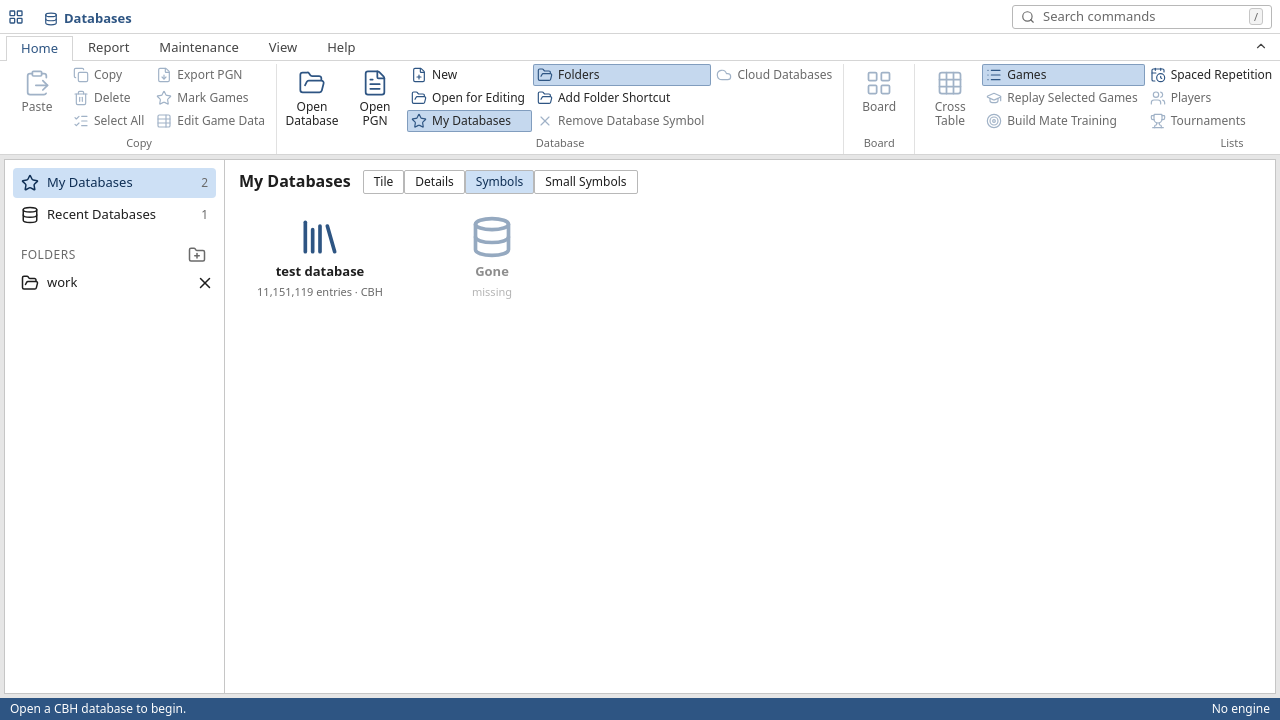
it: recovery from an unopened damaged family › retains choices after a destination failure and permits retry
Click the tab "Maintenance".
click(199, 48)  # box [144, 35, 254, 60]
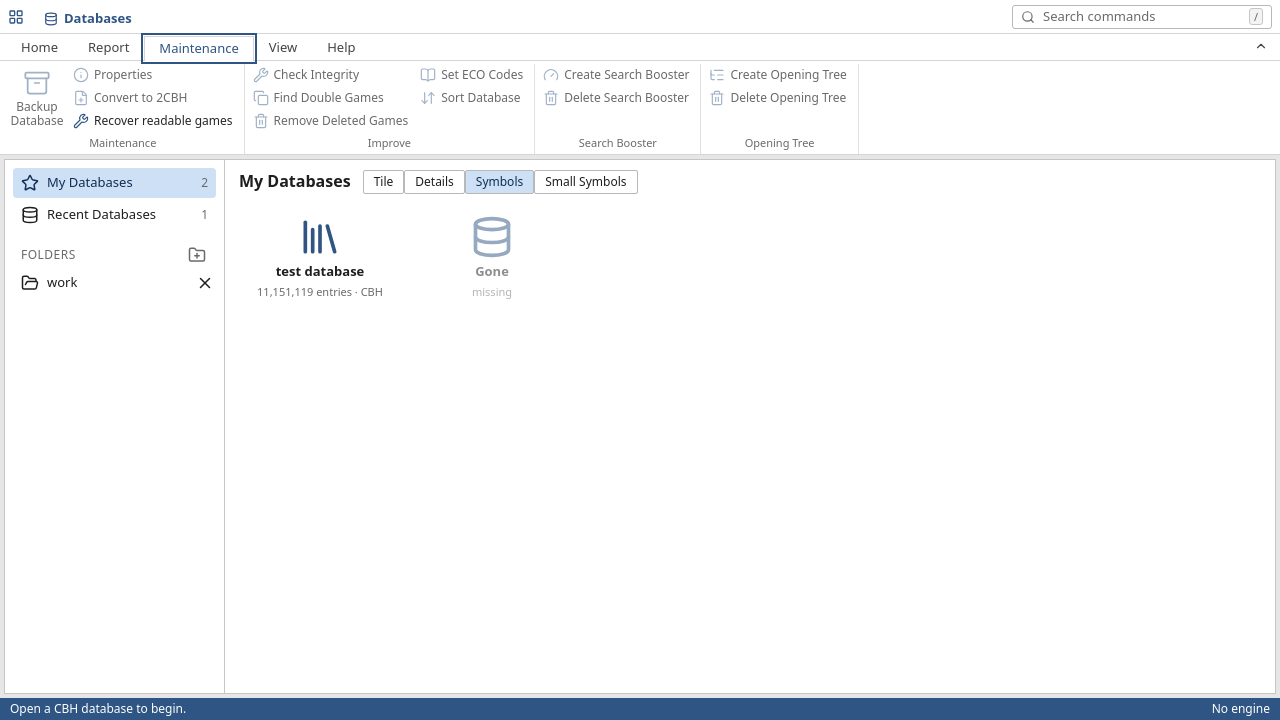
Click the button "Recover readable games".
click(154, 121)  # box [69, 110, 240, 132]
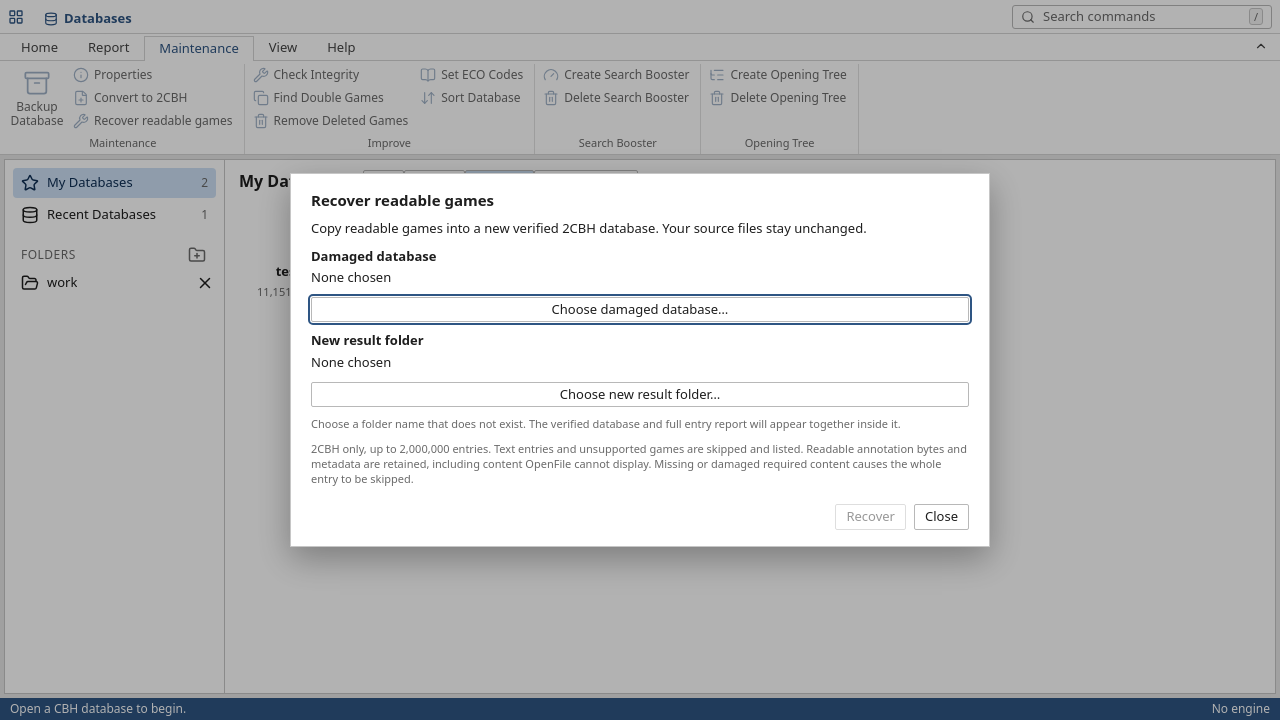
Click the button "Choose damaged database…".
click(640, 310)  # box [311, 297, 969, 322]
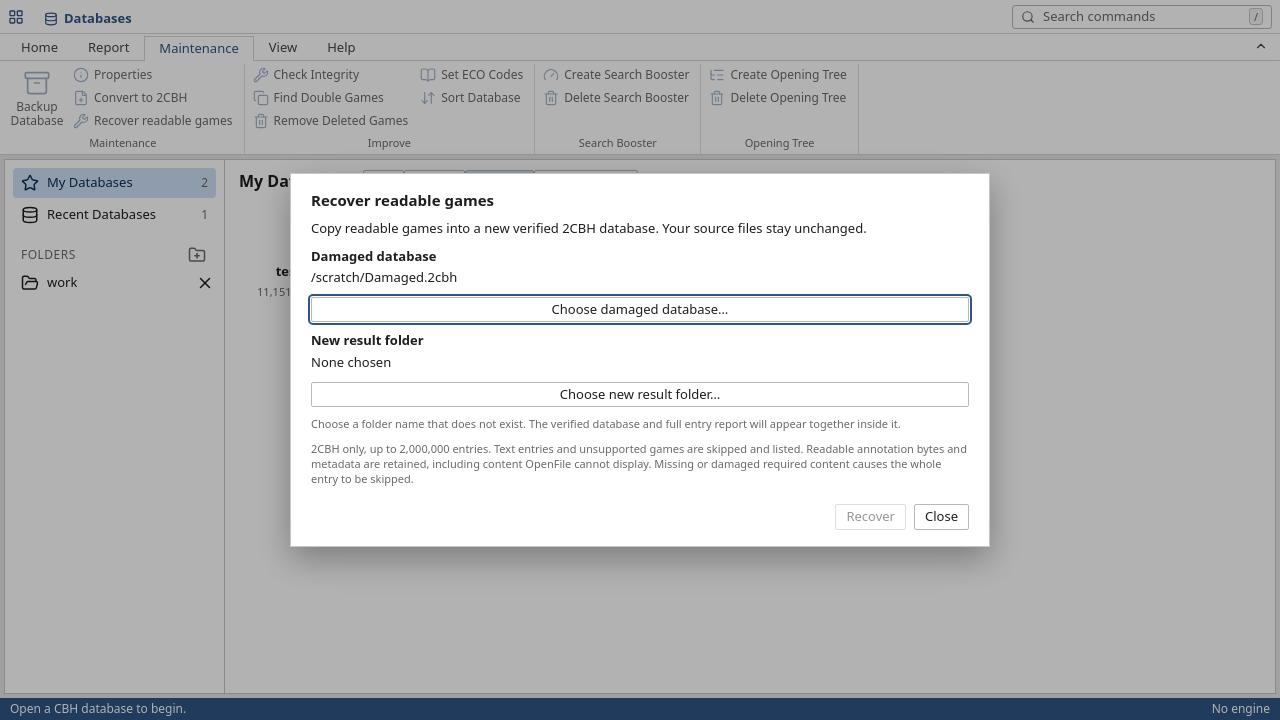
Click the button "Choose new result folder…".
click(640, 394)  # box [311, 382, 969, 407]
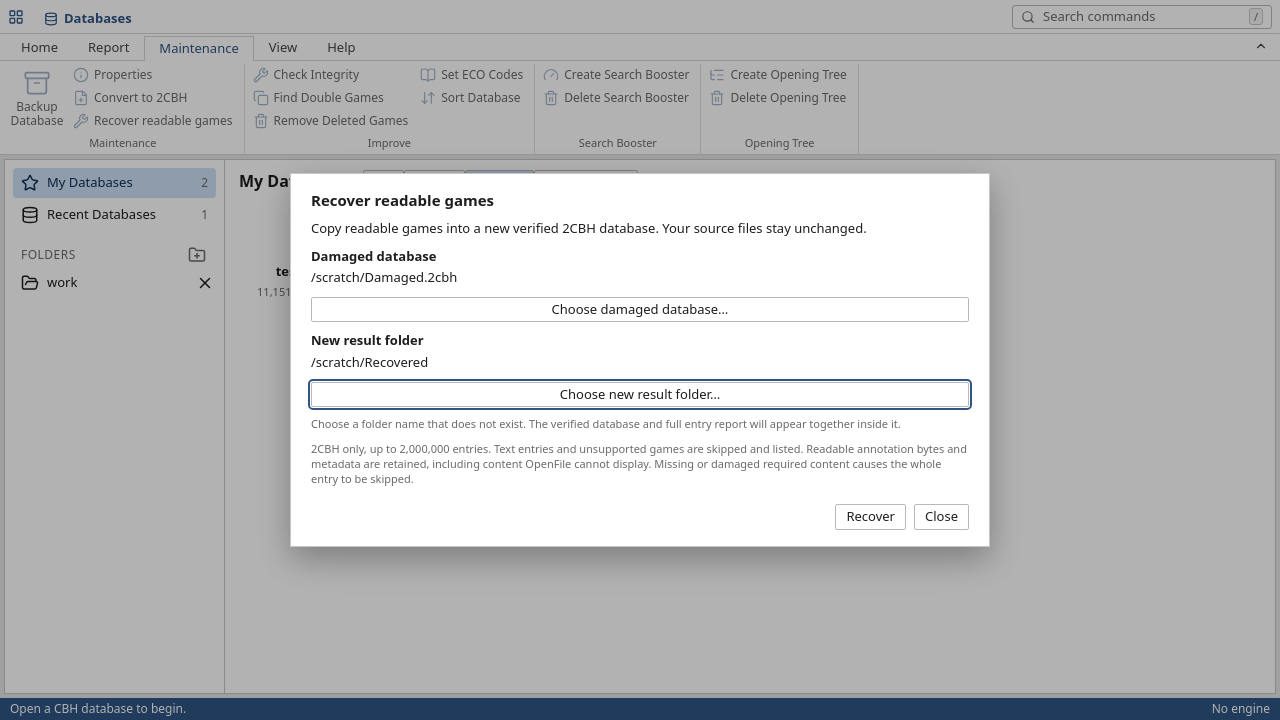
Click the button "Recover".
click(871, 517)  # box [835, 504, 906, 530]
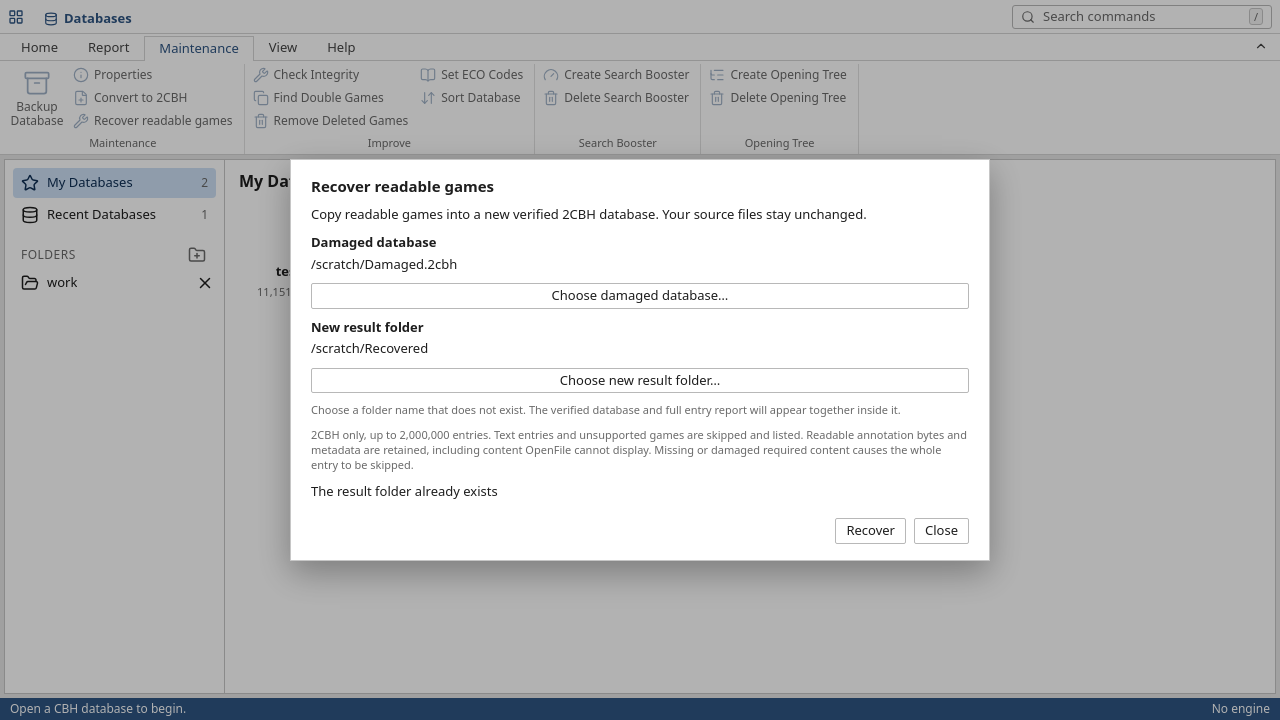
Result: the dialog "Recover readable games" shows "/scratch/Recovered" at [311, 339, 428, 357]
Result: the button "Recover" is enabled at [835, 518, 906, 544]
Result: the message shows "already exists" at [311, 482, 498, 500]
